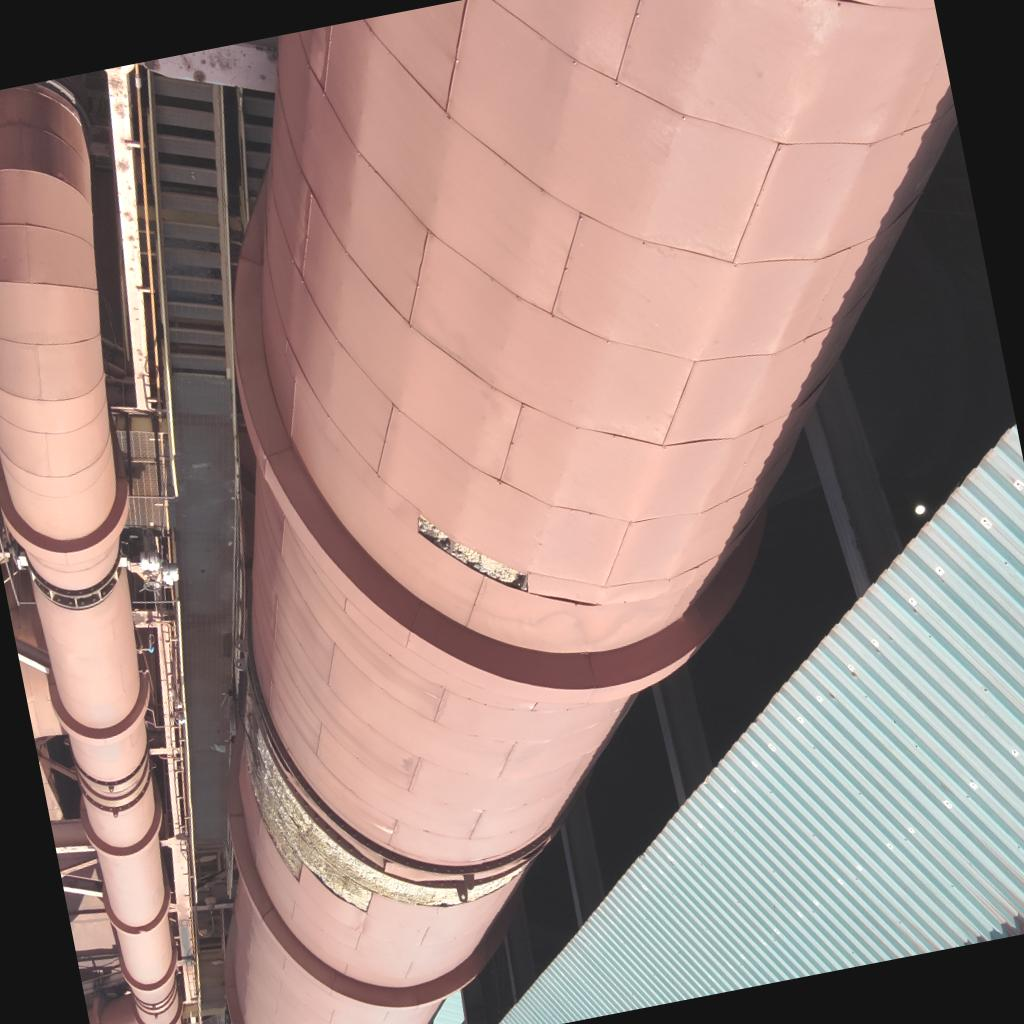Failures: (194, 625, 562, 988), (396, 460, 550, 645)
